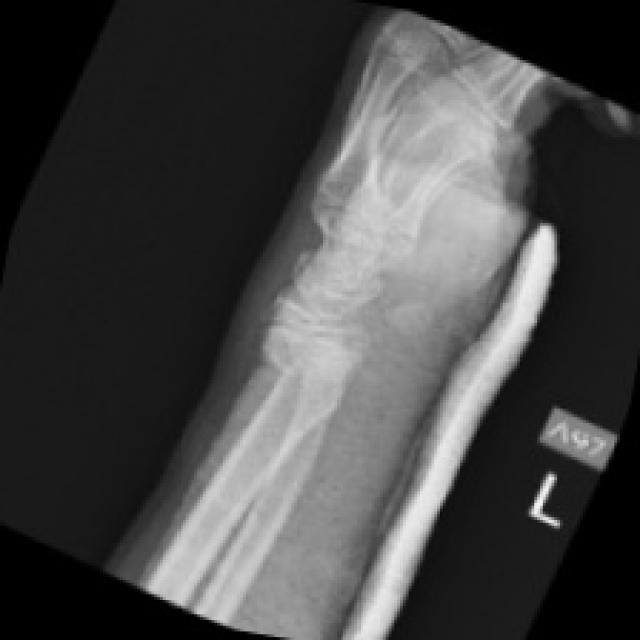fracture: (238, 322, 344, 414)
